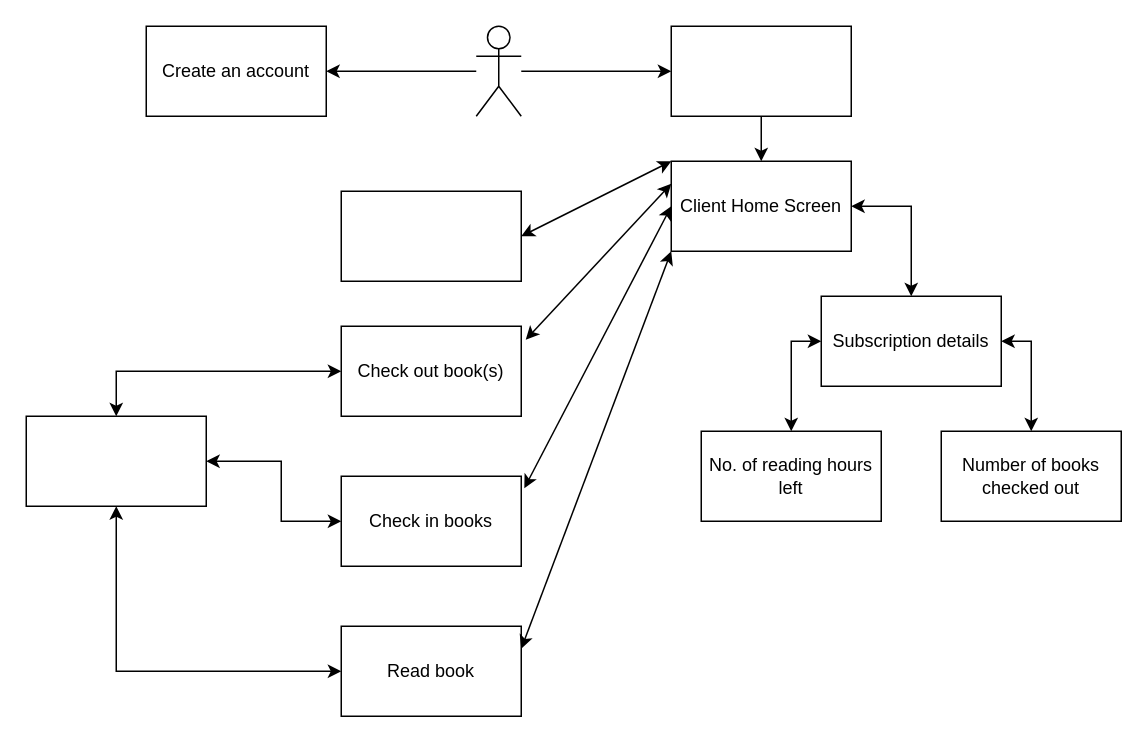
Image size: 1148x743. Some labels were removed from this diagram. The shapes that lost their labels are listed below. From the top down, each one's centre as x and y in pixels, then its label:
(498,70): Actor
(760,70): Authenticate
(430,235): Search books
(115,460): Online System Verification
